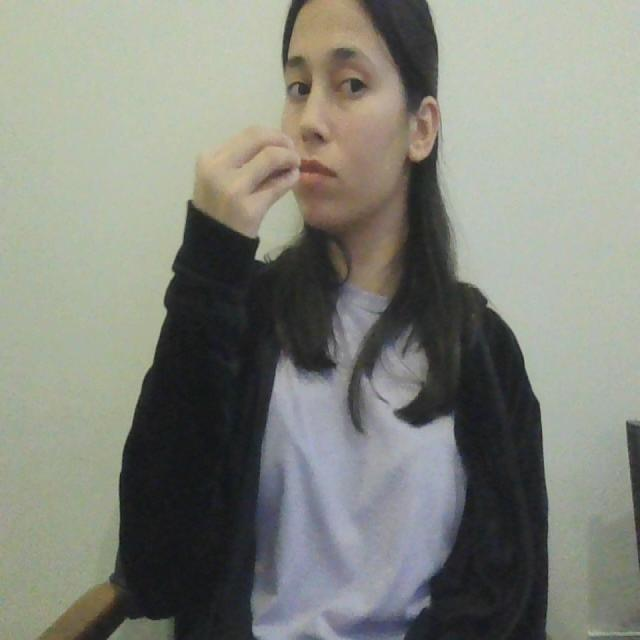Yemek: (182, 119, 342, 206)
